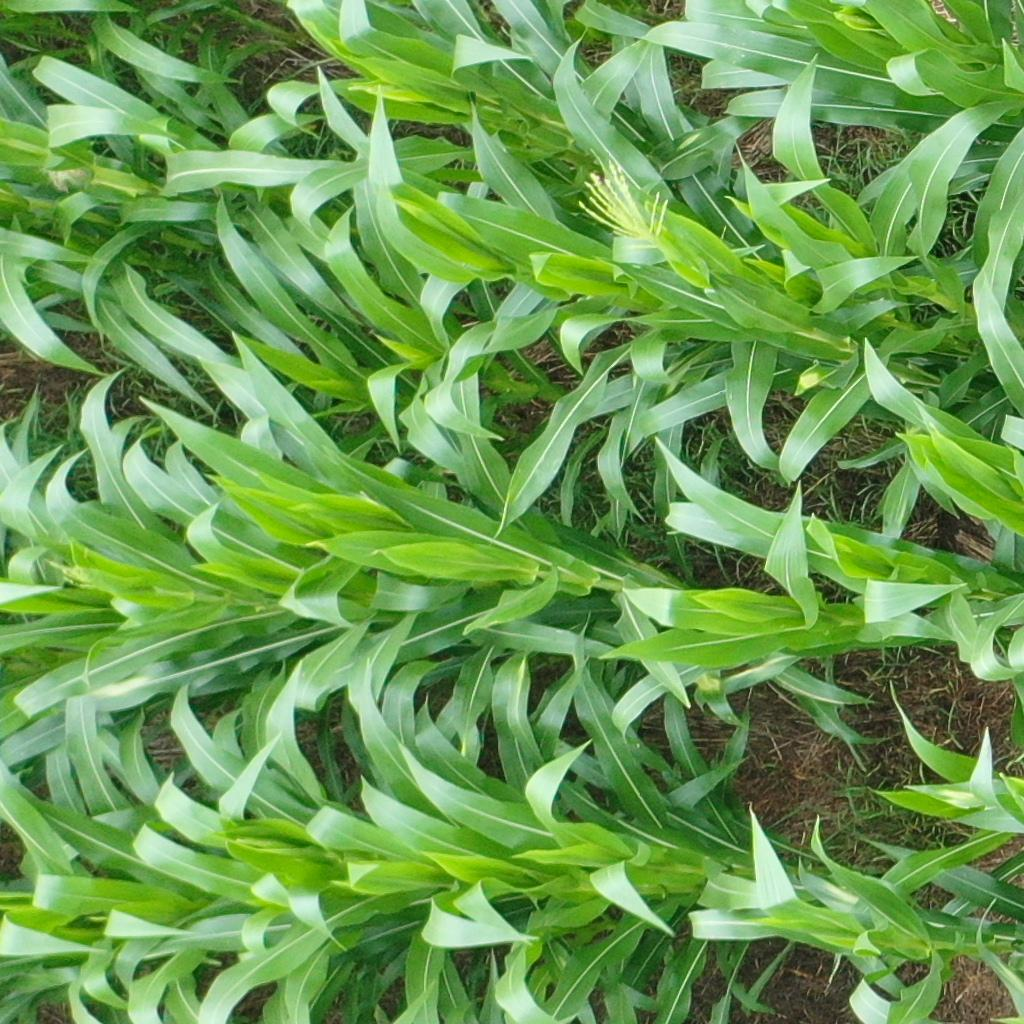Tassel: (572, 154, 668, 256), (41, 551, 96, 597)
